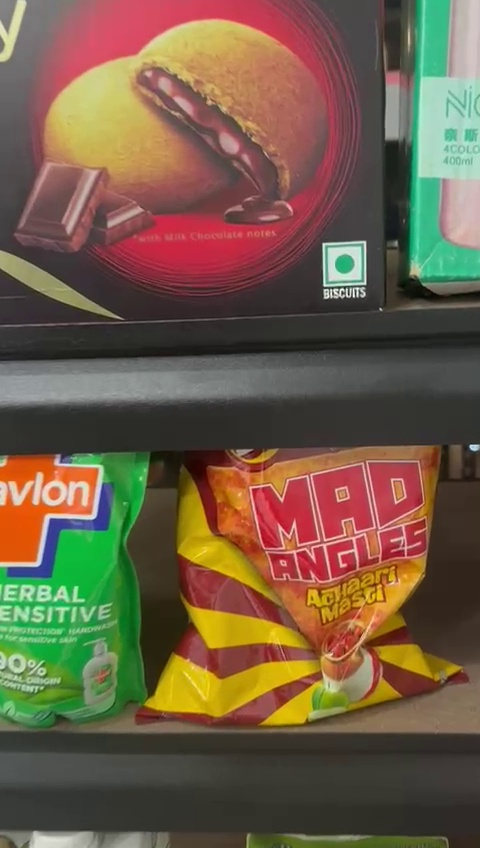Bingo Mad Angles: (180, 450, 452, 726)
